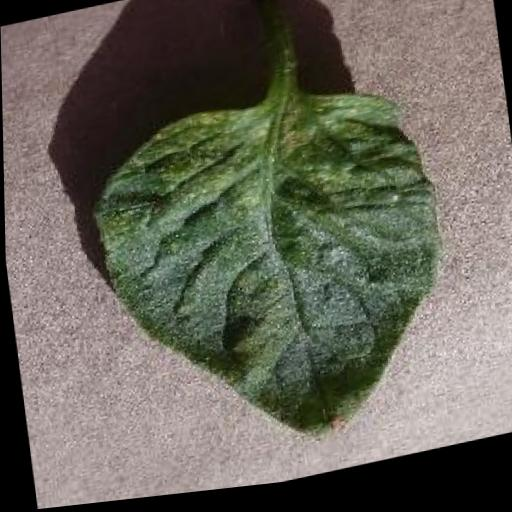Spider Mites: (85, 68, 465, 490)
